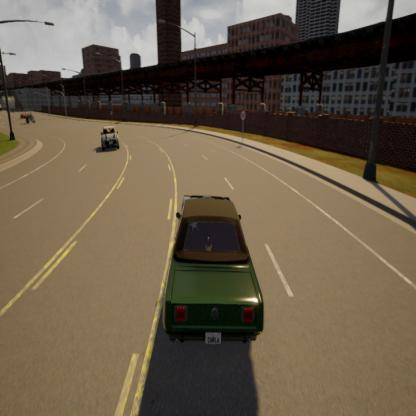Cars: (164, 194, 265, 349), (101, 123, 119, 153), (24, 114, 38, 128), (20, 109, 28, 120)
